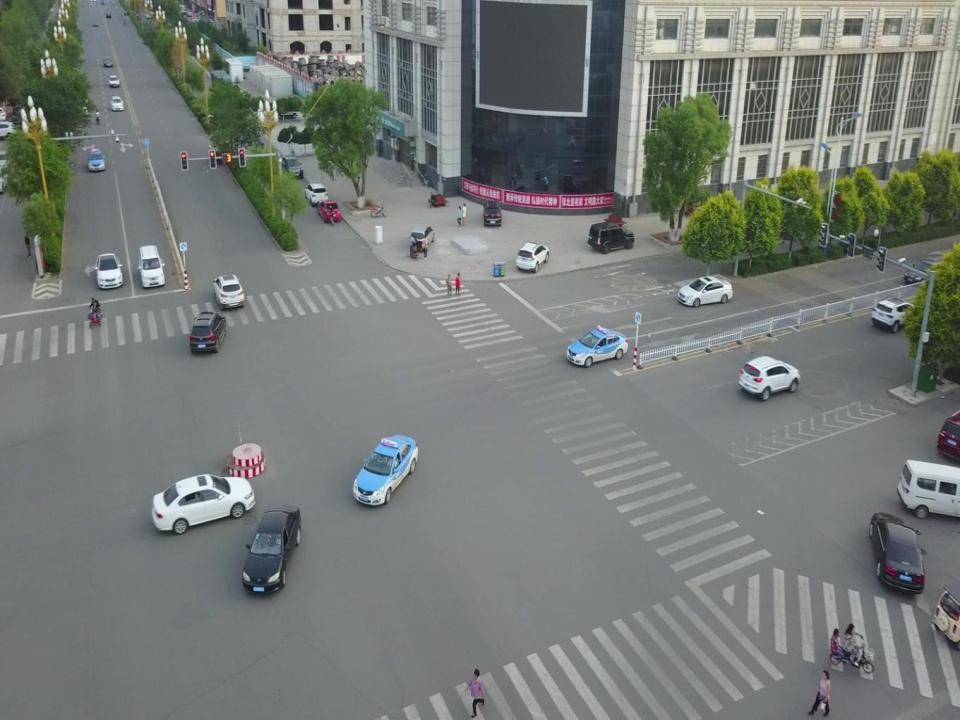car: (152, 472, 255, 534), (242, 502, 302, 594), (352, 433, 419, 506), (869, 511, 924, 594), (738, 355, 800, 401), (566, 326, 628, 367), (677, 276, 733, 308), (188, 310, 227, 354), (871, 297, 918, 333), (587, 221, 635, 254), (936, 407, 960, 460), (137, 245, 165, 289), (213, 273, 246, 310), (515, 241, 549, 273), (94, 253, 123, 290), (904, 260, 940, 285), (410, 225, 435, 252), (304, 183, 328, 207), (317, 200, 342, 223), (281, 155, 303, 181), (482, 198, 502, 226), (87, 148, 105, 171), (0, 120, 17, 141), (276, 108, 299, 120), (0, 170, 10, 196), (0, 150, 11, 172), (110, 96, 124, 112), (108, 74, 120, 88), (102, 56, 113, 68), (0, 106, 8, 122), (123, 10, 136, 16), (91, 20, 99, 26), (106, 11, 111, 19)
van: (896, 459, 960, 520)
